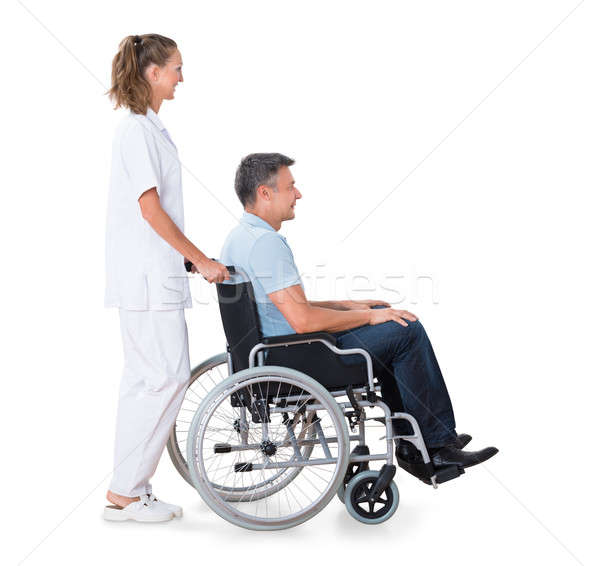wheelchair: (170, 151, 500, 531)
